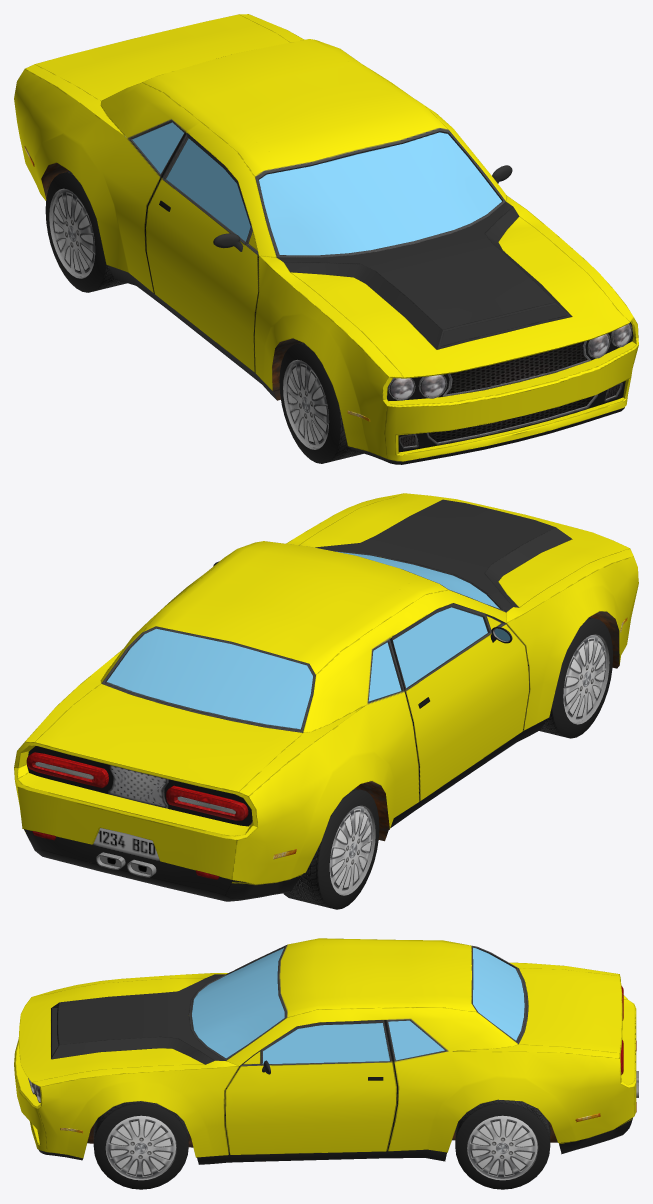
File: Dodge.fbx
3 renders of one model, top to bottom at view 1: azimuth 30°, elevation 25°; view 2: azimuth 150°, elevation 25°; view 3: azimuth 270°, elevation 25°, orthographic. The views are drawn at different scales.
Parts seen in each view (by area): view 1: Body, FL, BL; view 2: Body, BL, FL; view 3: Body, BR, FR.
Part boxes in pixels (box(x1,y1,x2,y2)): Body: box(14, 14, 638, 464); FL: box(279, 342, 363, 463); BL: box(45, 171, 127, 292); Body: box(14, 493, 638, 901); BL: box(283, 788, 379, 909); FL: box(539, 617, 613, 738); Body: box(14, 938, 638, 1164); BR: box(455, 1099, 550, 1189); FR: box(93, 1101, 188, 1189).
Bounding box in the file's own units: 266 × 187 × 623.
